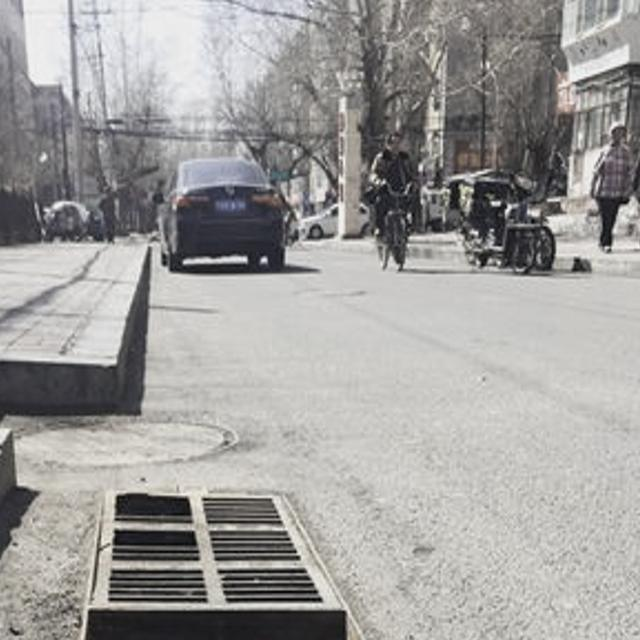lose: (0, 613, 521, 640)
